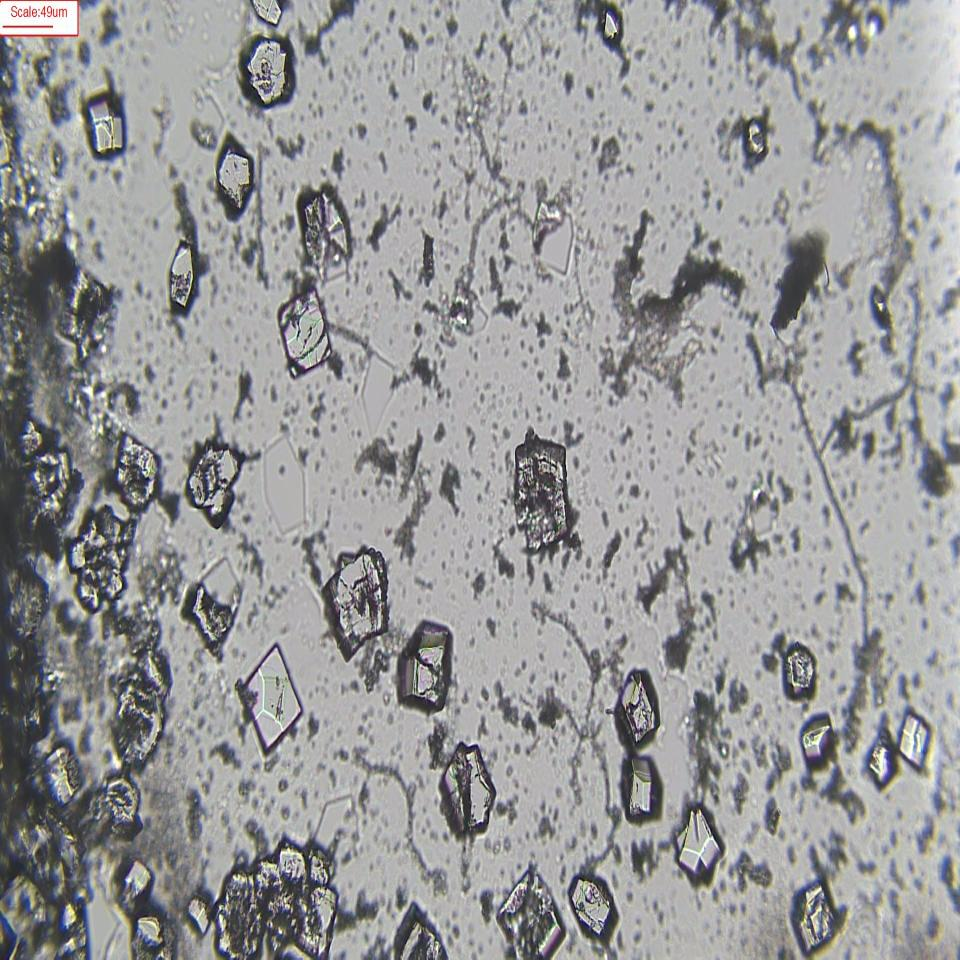crystal: (60, 501, 136, 614), (242, 642, 306, 754), (513, 437, 573, 556), (326, 553, 390, 655), (500, 864, 565, 960), (276, 290, 337, 376), (187, 576, 252, 653), (398, 620, 453, 710), (444, 743, 495, 838), (297, 192, 355, 275), (186, 443, 243, 526), (672, 804, 724, 884), (241, 39, 297, 108), (113, 428, 160, 509), (788, 880, 841, 950), (616, 666, 660, 746), (212, 134, 257, 212), (569, 871, 619, 940), (619, 754, 661, 828), (82, 87, 125, 155), (778, 636, 819, 707), (117, 854, 153, 916), (166, 242, 196, 313), (899, 709, 931, 768), (801, 716, 835, 768), (868, 732, 899, 788), (132, 912, 168, 956), (596, 2, 625, 50), (186, 885, 210, 933), (745, 112, 766, 163)
